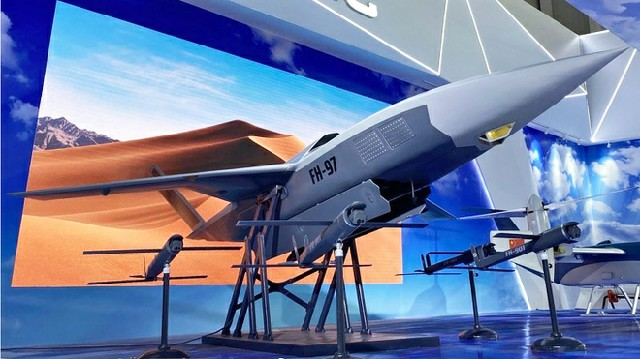maybay_khongnguoilai: (52, 46, 620, 293)
